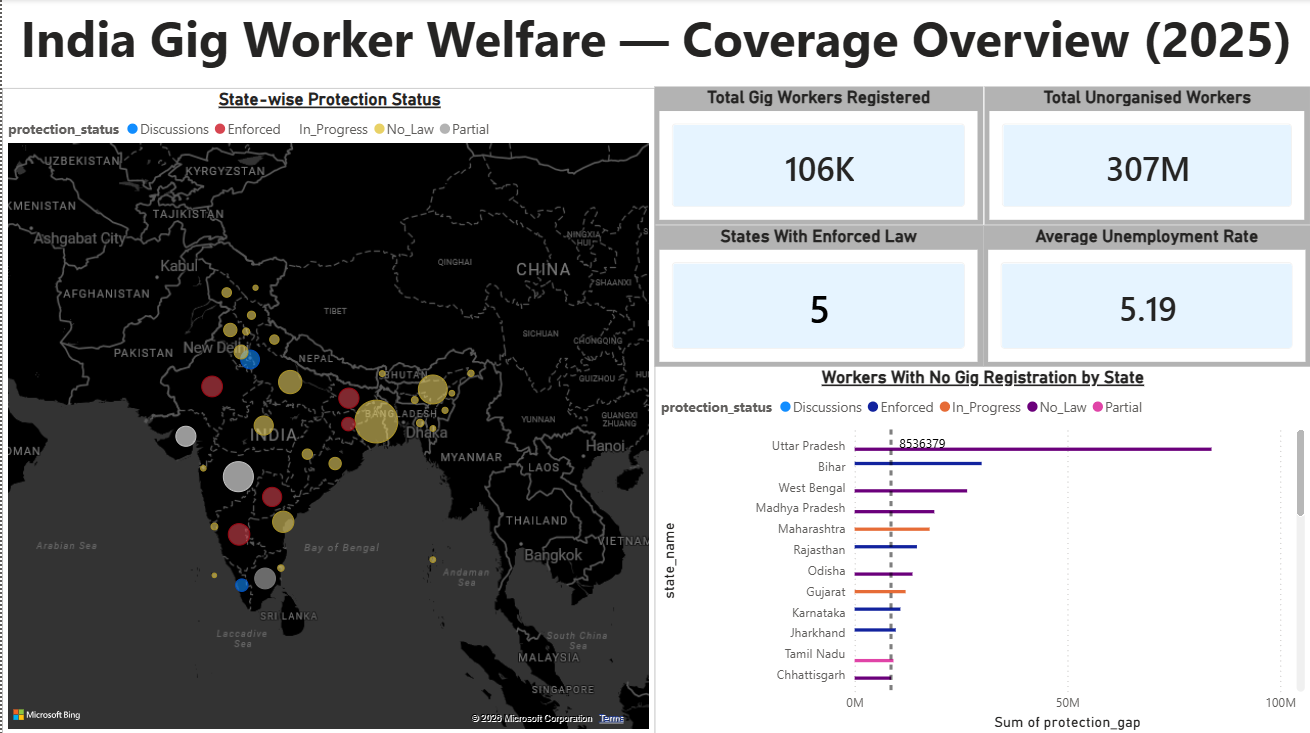

What the dashboard file says about the page in this screenshot:
{"tool":"powerbi","page":{"name":"Coverage Overview","canvas":[1280,720],"ordinal":0},"visuals":[{"type":"map","title":"State-wise Protection Status","fields":{"Category":["master_analytics_table.state_name"],"Size":["Sum(master_analytics_table.total_gig_workers)"],"Series":["master_analytics_table.protection_status"]},"box":[0,86.4,639.5,634],"z":0},{"type":"clusteredBarChart","title":"Workers With No Gig Registration by State","fields":{"Category":["master_analytics_table.state_name"],"Y":["Sum(master_analytics_table.protection_gap)"],"Series":["master_analytics_table.protection_status"]},"box":[640.1,359.4,640.1,360.8],"z":1000},{"type":"textbox","box":[0,0,1280.3,85.8],"z":2000},{"type":"cardVisual","title":"Total Gig Workers Registered","fields":{"Data":["master_analytics_table.Total Gig Workers Correct"]},"box":[638.7,85.8,321.5,135.3],"z":3000},{"type":"cardVisual","title":"Total Unorganised Workers","fields":{"Data":["Sum(master_analytics_table.total_unorganised_27mar)"]},"box":[961.7,85.8,318.6,135.3],"z":4000},{"type":"cardVisual","title":"States With Enforced Law","fields":{"Data":["CountNonNull(master_analytics_table.state_name)"]},"box":[638.7,221.1,321.5,138.2],"z":5000},{"type":"cardVisual","title":"Average Unemployment Rate","fields":{"Data":["Avg(plfs_unemployment.unemployment_rate_pct)"]},"box":[960.2,221.1,320.1,138.2],"z":6000}]}

Visuals, with their boxes in screenshot pixels (x1, y1, x2, y2), scaled from the page's 1280x720 canvas onto the 1310x733 screenshot:
"State-wise Protection Status" map: 0, 88, 654, 732
"Workers With No Gig Registration by State" clusteredBarChart: 655, 366, 1309, 732
textbox: 0, 0, 1309, 87
"Total Gig Workers Registered" cardVisual: 654, 87, 983, 225
"Total Unorganised Workers" cardVisual: 984, 87, 1309, 225
"States With Enforced Law" cardVisual: 654, 225, 983, 366
"Average Unemployment Rate" cardVisual: 983, 225, 1309, 366
